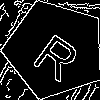R: (30, 25, 88, 83)
